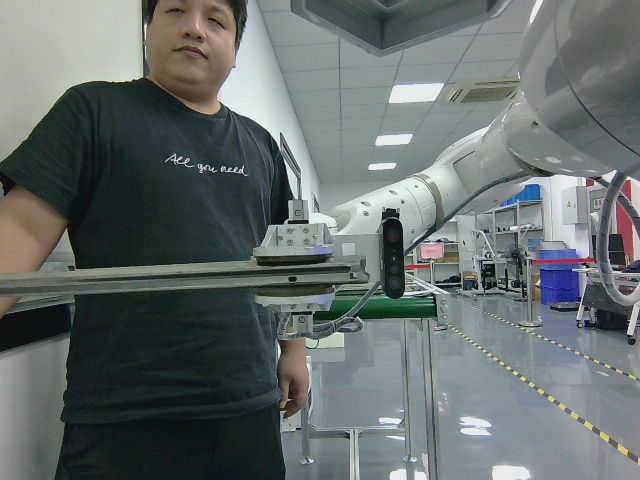up: (3, 256, 369, 298)
